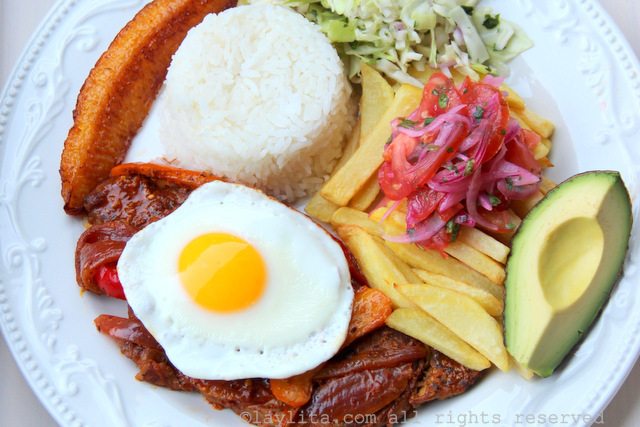fried egg: (126, 199, 335, 366)
plain rice: (190, 39, 335, 160)
